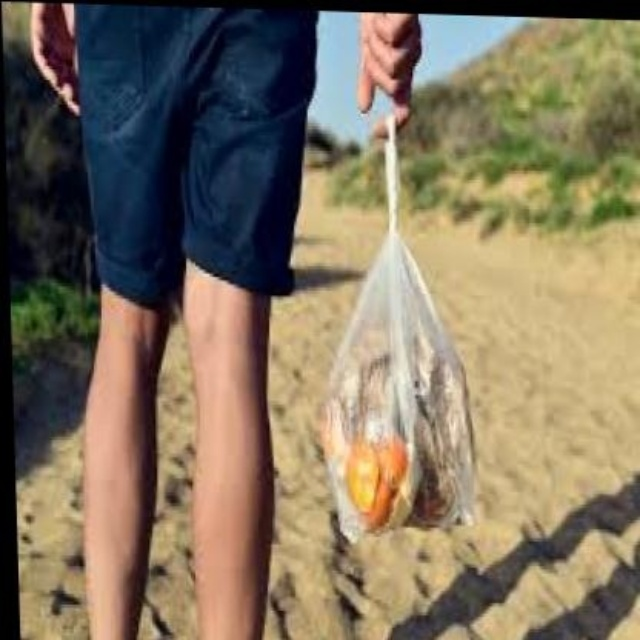trash: (322, 114, 472, 540)
